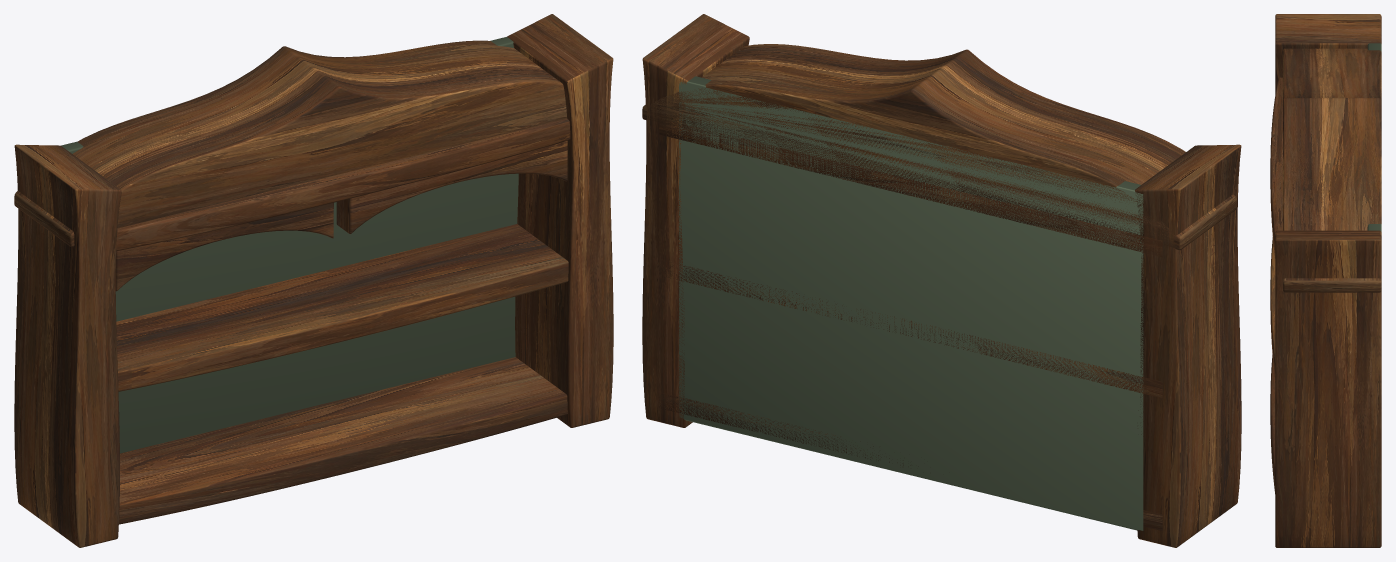
The model's file is CM_SW13_RecordsCase.fbx.
3 views of the same model, side by side, from view 1: azimuth 30°, elevation 25°; view 2: azimuth 150°, elevation 25°; view 3: azimuth 270°, elevation 25° (orthographic). The views are drawn at different scales.
Parts seen in each view (by area): view 1: CM_SW13_RecordsCase; view 2: CM_SW13_RecordsCase; view 3: CM_SW13_RecordsCase.
Part boxes in pixels (x1,y1,x2,y2): CM_SW13_RecordsCase: (14,14,613,547); CM_SW13_RecordsCase: (642,14,1241,547); CM_SW13_RecordsCase: (1270,14,1381,547).
Size of the model in its own units: 1.36 by 0.9485 by 0.282.
